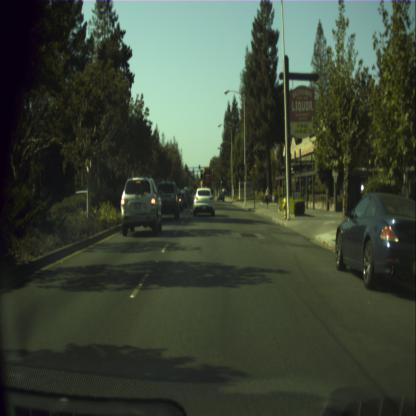Green: (198, 164, 200, 172), (221, 177, 223, 184)
Red: (184, 164, 186, 172)
